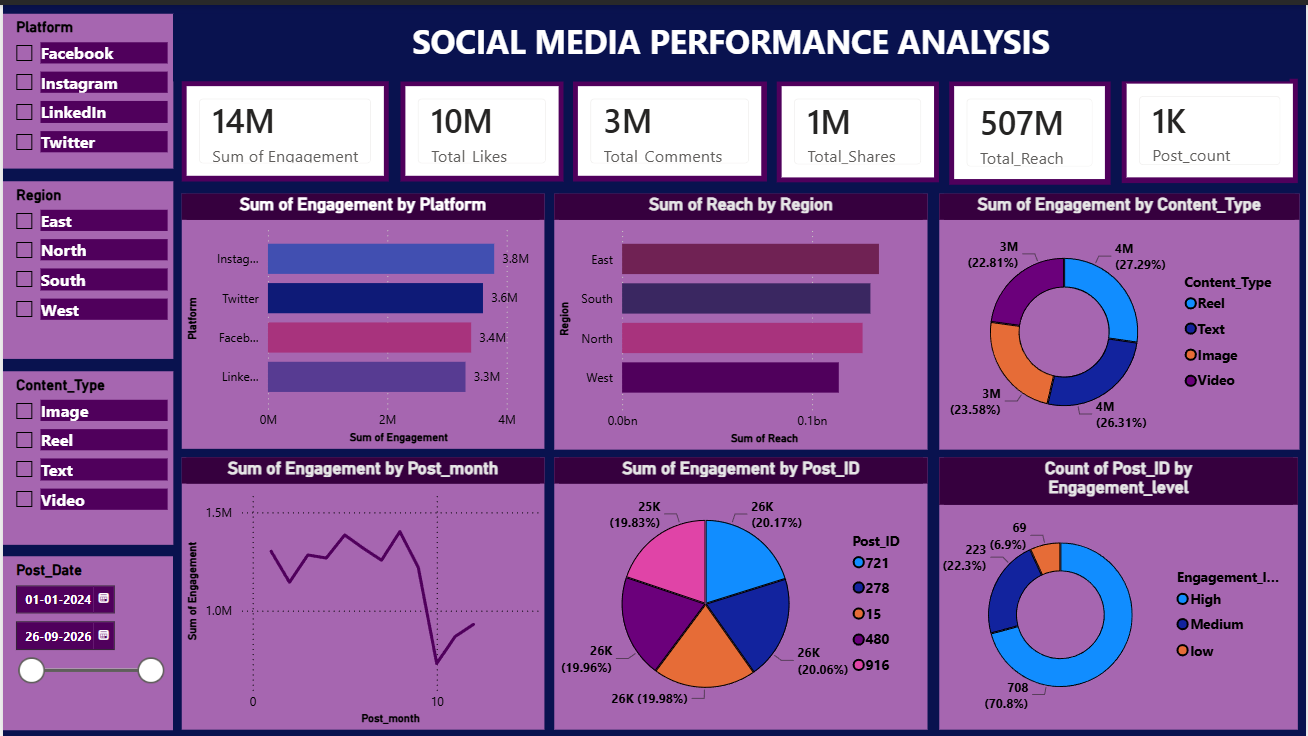

Layout of this report page (visuals, bound fields, positions):
{"tool":"powerbi","page":{"name":"Page 1","canvas":[1280,720],"ordinal":0},"visuals":[{"type":"pieChart","fields":{"Category":["Sheet1.Post_ID"],"Y":["Sum(Sheet1.Engagement)"]},"box":[541,444.4,366.5,266.9],"z":0},{"type":"cardVisual","fields":{"Data":["Sheet1.Total_Shares"]},"box":[759.5,74.8,159.5,99.4],"z":2},{"type":"cardVisual","fields":{"Data":["Sheet1.Total_Likes"]},"box":[390.2,74.8,160.1,98.1],"z":3},{"type":"cardVisual","fields":{"Data":["Sheet1.Total_Comments"]},"box":[559.5,74.8,190.4,98.1],"z":4},{"type":"cardVisual","fields":{"Data":["Sheet1.Total_Reach"]},"box":[928.8,74.8,158.3,101.8],"z":5},{"type":"cardVisual","fields":{"Data":["Sheet1.Post_count"]},"box":[1097.9,72.1,173.1,102.4],"z":6},{"type":"barChart","fields":{"Category":["Sheet1.Platform"],"Y":["Sum(Sheet1.Engagement)"]},"box":[175.5,185.3,355.8,250.3],"z":7},{"type":"clusteredBarChart","fields":{"Category":["Sheet1.Region"],"Y":["Sum(Sheet1.Reach)"]},"box":[541,184.7,366.5,251],"z":8},{"type":"donutChart","fields":{"Category":["Sheet1.Content_Type"],"Y":["Sum(Sheet1.Engagement)"]},"box":[919,184.7,353.5,251],"z":9},{"type":"lineChart","fields":{"Category":["Sheet1.Post_month"],"Y":["Sum(Sheet1.Engagement)"]},"box":[175.5,444.2,355.8,267.5],"z":10},{"type":"slicer","fields":{"Values":["Sheet1.Platform"]},"box":[0,8.6,166.9,152.1],"z":11},{"type":"slicer","fields":{"Values":["Sheet1.Region"]},"box":[0,173,166.9,174.2],"z":12},{"type":"slicer","fields":{"Values":["Sheet1.Content_Type"]},"box":[0,359.5,166.9,170.6],"z":13},{"type":"slicer","fields":{"Values":["Sheet1.Post_Date"]},"box":[0,541.1,166.7,170.4],"z":14},{"type":"donutChart","fields":{"Category":["Sheet1.Engagement_level"],"Y":["CountNonNull(Sheet1.Post_ID)"]},"box":[919,444.2,352.1,267.5],"z":15},{"type":"textbox","box":[166.9,8.6,1095.7,66.3],"z":16},{"type":"cardVisual","fields":{"Data":["Sum(Sheet1.Engagement)"]},"box":[176,75,203.4,98.1],"z":17}]}

Visuals, with their boxes in screenshot pixels (x1, y1, x2, y2), scaled from the page's 1280x720 canvas onto the 1308x736 screenshot:
pieChart - Sheet1.Post_ID x Sum(Sheet1.Engagement): bbox=(553, 454, 927, 727)
cardVisual - Sheet1.Total_Shares: bbox=(776, 76, 939, 178)
cardVisual - Sheet1.Total_Likes: bbox=(399, 76, 562, 177)
cardVisual - Sheet1.Total_Comments: bbox=(572, 76, 766, 177)
cardVisual - Sheet1.Total_Reach: bbox=(949, 76, 1111, 181)
cardVisual - Sheet1.Post_count: bbox=(1122, 74, 1299, 178)
barChart - Sheet1.Platform x Sum(Sheet1.Engagement): bbox=(179, 189, 543, 445)
clusteredBarChart - Sheet1.Region x Sum(Sheet1.Reach): bbox=(553, 189, 927, 445)
donutChart - Sheet1.Content_Type x Sum(Sheet1.Engagement): bbox=(939, 189, 1300, 445)
lineChart - Sheet1.Post_month x Sum(Sheet1.Engagement): bbox=(179, 454, 543, 728)
slicer - Sheet1.Platform: bbox=(0, 9, 171, 164)
slicer - Sheet1.Region: bbox=(0, 177, 171, 355)
slicer - Sheet1.Content_Type: bbox=(0, 367, 171, 542)
slicer - Sheet1.Post_Date: bbox=(0, 553, 170, 727)
donutChart - Sheet1.Engagement_level x CountNonNull(Sheet1.Post_ID): bbox=(939, 454, 1299, 728)
textbox: bbox=(171, 9, 1290, 77)
cardVisual - Sum(Sheet1.Engagement): bbox=(180, 77, 388, 177)
